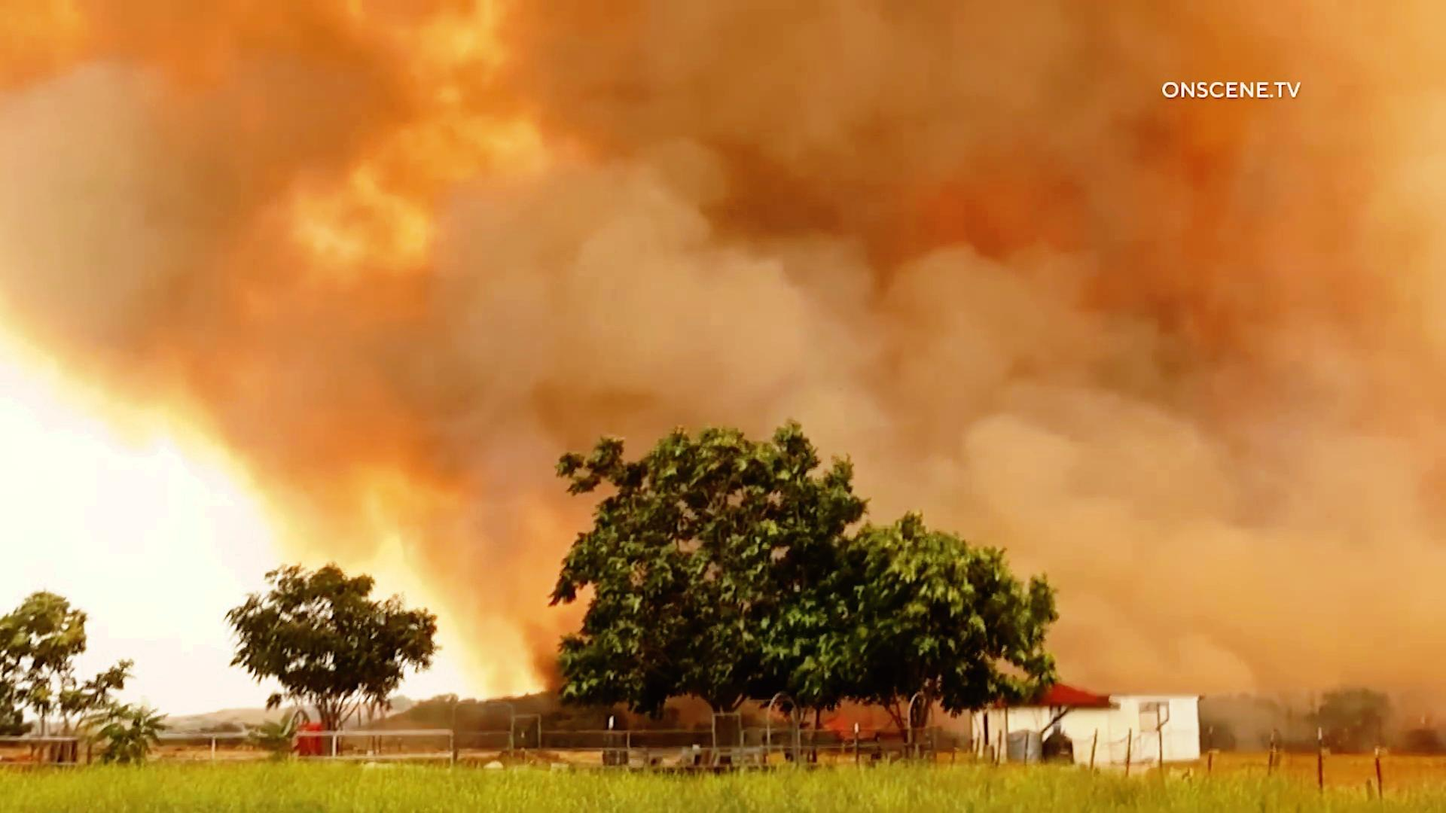smoke: (381, 78, 1094, 336)
